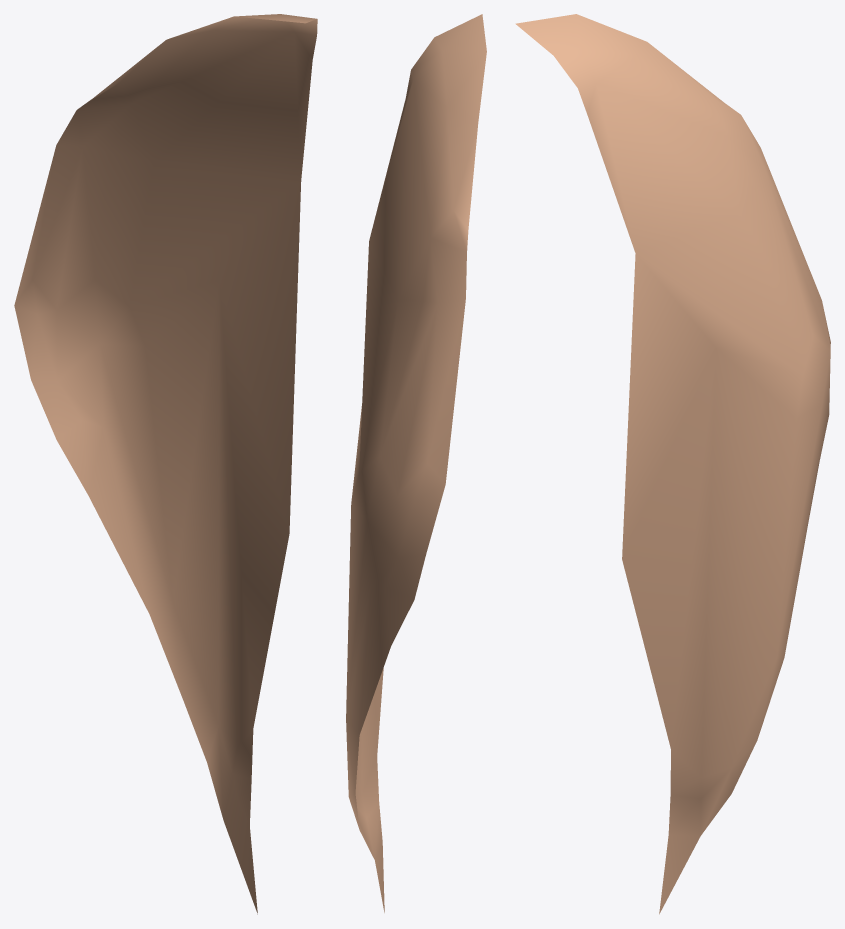
The model's file is scapha-r.glb.
The picture shows the model from 3 angles, left to right: view 1: azimuth 30°, elevation 25°; view 2: azimuth 150°, elevation 25°; view 3: azimuth 270°, elevation 25°; orthographic projection. The views are drawn at different scales.
Parts seen in each view (by area): view 1: Scapha.r; view 2: Scapha.r; view 3: Scapha.r.
Part boxes in pixels (x1,y1,x2,y2): Scapha.r: (14,14,317,914); Scapha.r: (346,14,486,912); Scapha.r: (515,14,830,914).
Size of the model in its own units: 0.00589 by 0.0289 by 0.00943.
